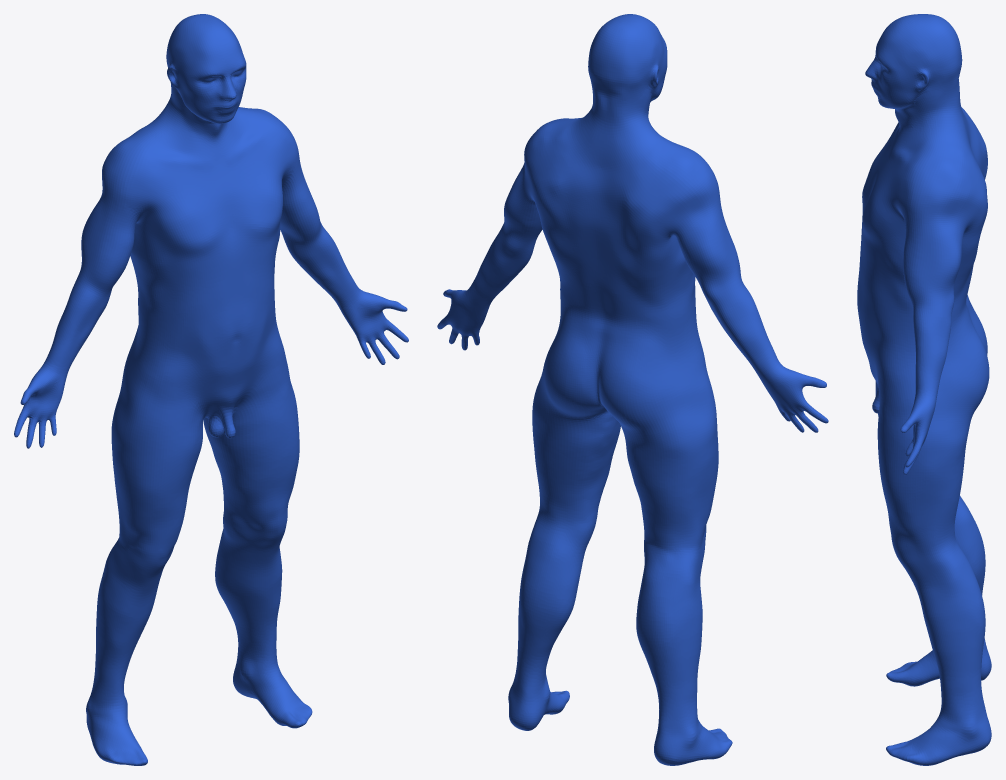
The model's file is VH_M_Skin_0.6.glb.
The picture shows the model from 3 angles, left to right: view 1: azimuth 30°, elevation 25°; view 2: azimuth 150°, elevation 25°; view 3: azimuth 270°, elevation 25°; orthographic projection. The views are drawn at different scales.
Parts seen in each view (by area): view 1: VH_M_skin; view 2: VH_M_skin; view 3: VH_M_skin.
Boxes of the visible parts, box(x1,y1,x2,y2) form: VH_M_skin: box(14, 14, 408, 765); VH_M_skin: box(437, 14, 828, 765); VH_M_skin: box(857, 14, 991, 765).
Size of the model in its own units: 1.05 by 1.83 by 0.3162.
